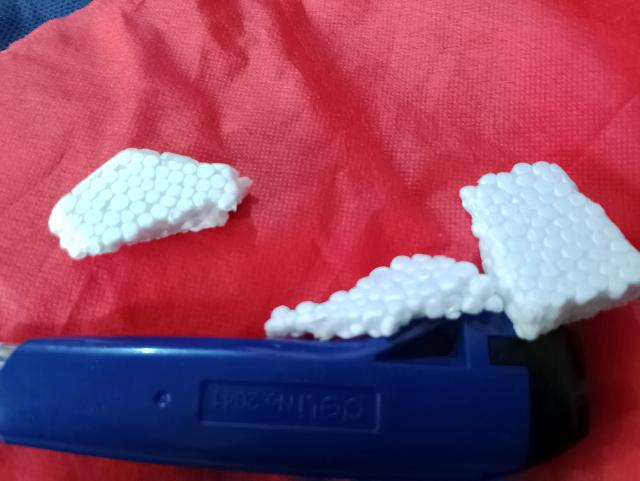cocksheet: (459, 120, 631, 309), (54, 150, 228, 256), (269, 257, 497, 314)
